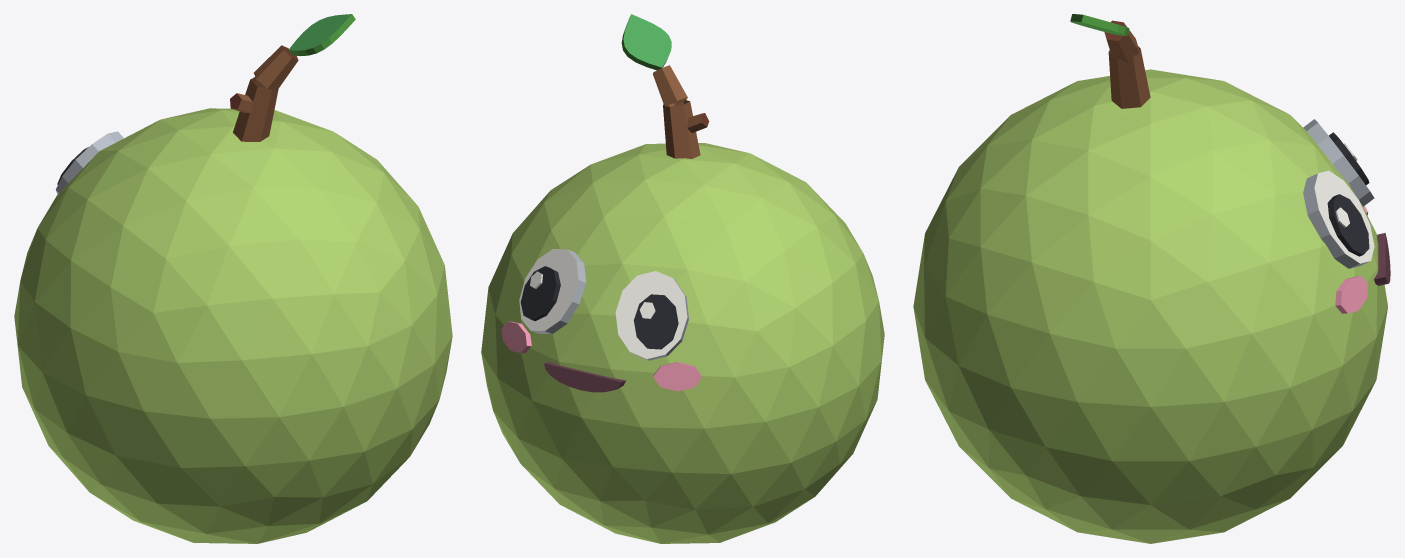
Rendered from CH_Dalcik_T2.fbx.
3 views of the same model, side by side, from view 1: azimuth 30°, elevation 25°; view 2: azimuth 150°, elevation 25°; view 3: azimuth 270°, elevation 25° (orthographic). The views are drawn at different scales.
Parts seen in each view (by area): view 1: CH_Dalcik_T2; view 2: CH_Dalcik_T2; view 3: CH_Dalcik_T2.
Boxes of the visible parts, x1=… form: CH_Dalcik_T2: x1=14, y1=14, x2=452, y2=543; CH_Dalcik_T2: x1=481, y1=14, x2=884, y2=543; CH_Dalcik_T2: x1=913, y1=14, x2=1390, y2=543.
Size of the model in its own units: 1 by 1.29 by 1.01.
